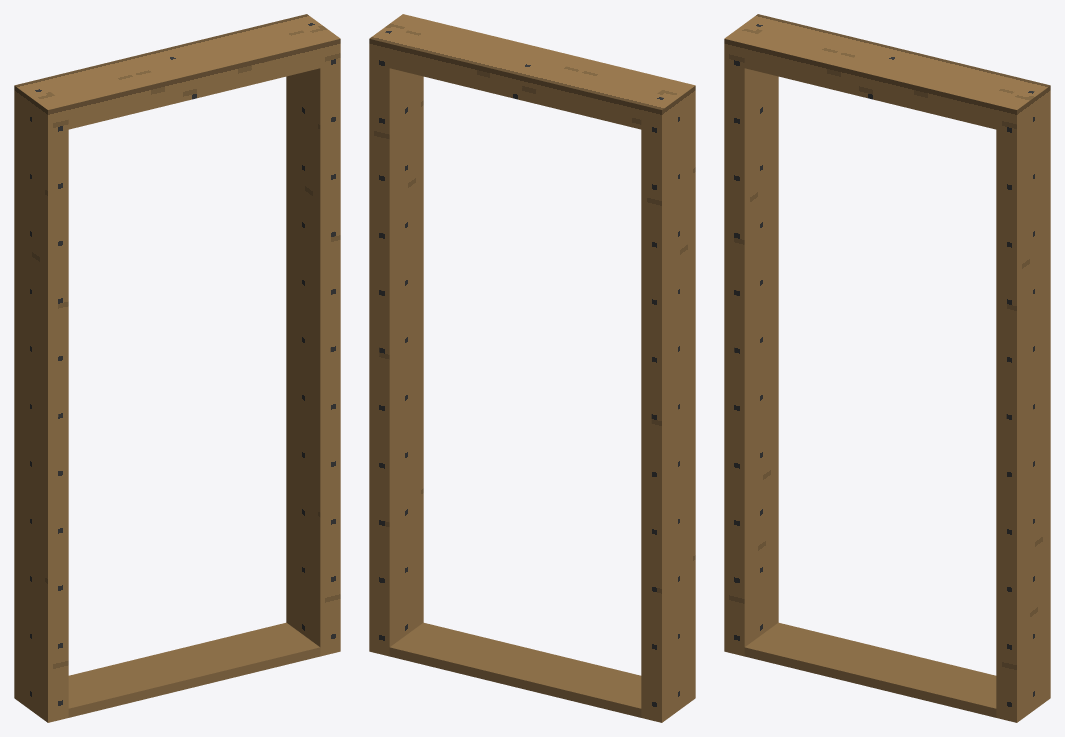
The model's file is t_door_frame.glb.
The picture shows the model from 3 angles, left to right: view 1: azimuth 30°, elevation 25°; view 2: azimuth 150°, elevation 25°; view 3: azimuth 330°, elevation 25°; orthographic projection.
Visible parts, largest first — view 1: block_jamb-1, block_jamb1, block_head, block_sill; view 2: block_jamb-1, block_jamb1, block_head, block_sill; view 3: block_jamb1, block_jamb-1, block_head, block_sill.
Boxes of the visible parts, x1,y1,x2,y2 form: block_jamb-1: (14, 80, 68, 722); block_jamb1: (286, 14, 340, 656); block_head: (35, 19, 320, 129); block_sill: (68, 622, 320, 717); block_jamb-1: (641, 80, 695, 722); block_jamb1: (369, 14, 423, 656); block_head: (389, 19, 674, 129); block_sill: (389, 622, 641, 717); block_jamb1: (996, 80, 1050, 722); block_jamb-1: (724, 14, 778, 656); block_head: (744, 19, 1029, 129); block_sill: (744, 622, 996, 717).
Size of the model in its own units: 1 by 2 by 0.2.
Materials: 1 (1 with a texture image).
